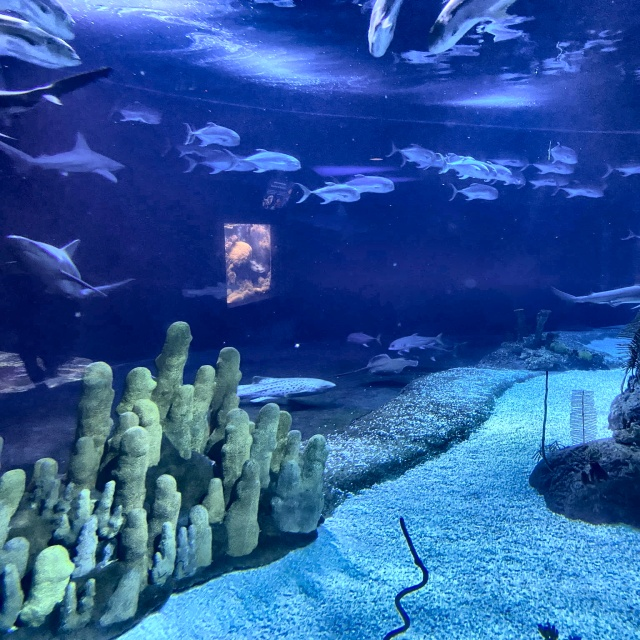fish: (422, 0, 515, 52), (0, 15, 83, 73), (0, 0, 102, 36), (233, 376, 338, 405), (366, 0, 409, 62), (115, 97, 169, 128), (303, 184, 362, 210), (186, 124, 247, 148), (336, 172, 397, 194), (242, 152, 301, 173), (181, 152, 233, 174), (391, 336, 450, 353), (396, 141, 434, 166), (536, 142, 582, 162), (457, 160, 498, 181), (564, 180, 605, 200), (449, 158, 489, 178), (458, 185, 500, 202), (480, 165, 518, 183), (342, 333, 382, 349), (601, 163, 639, 179), (535, 162, 577, 176), (528, 176, 564, 191)
shark: (12, 235, 109, 312), (23, 142, 128, 183), (0, 73, 95, 117), (561, 285, 639, 314)
stingray: (369, 357, 420, 377)
